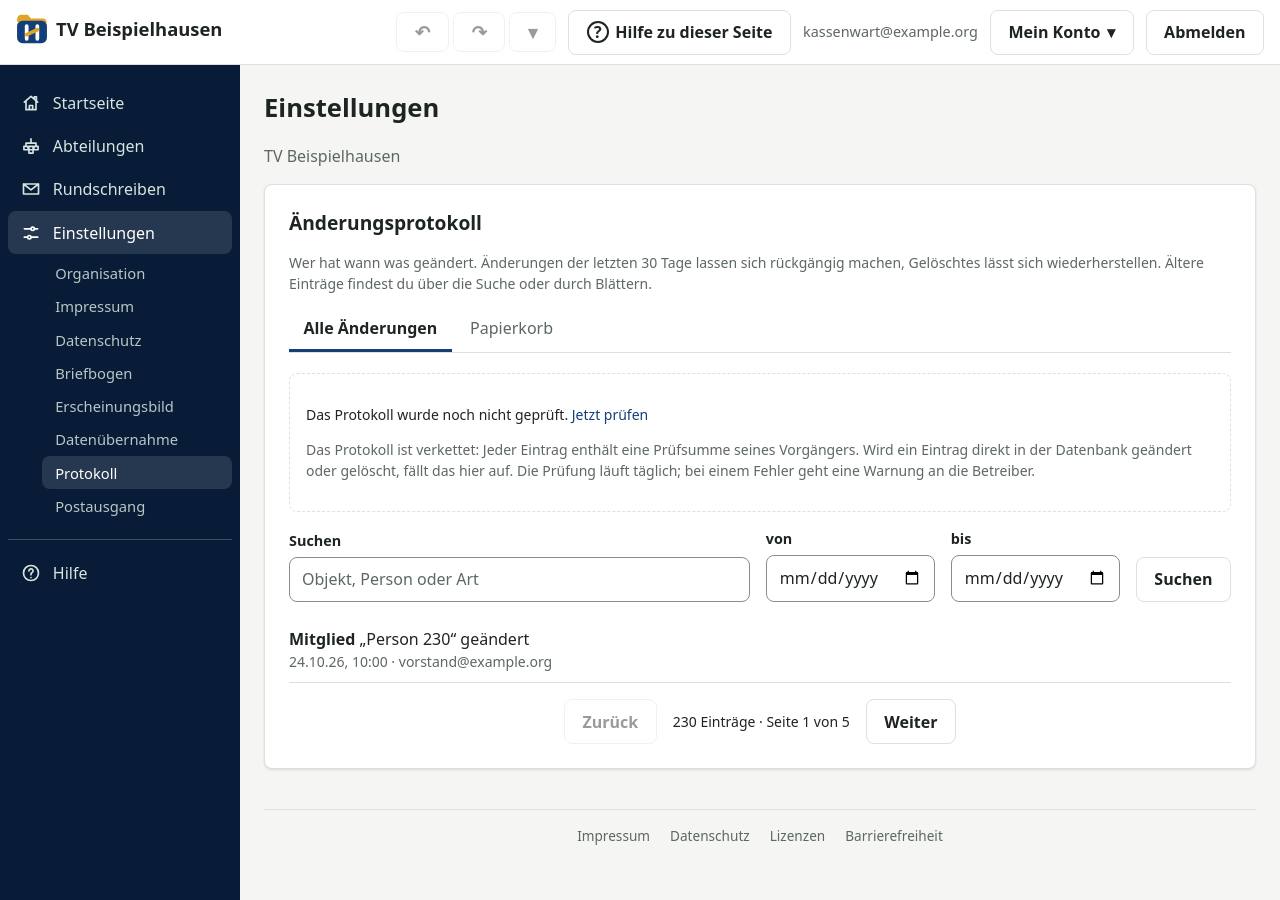
Änderungsprotokoll › blättert und sucht auf dem Server
Expected: the text "Mitglied „Person 230“ geändert" is shown, [289,628,529,650]
Expected: the text "230 Einträge · Seite 1 von 5" is shown, [673,711,850,732]
Click the button "Weiter": (911, 722) [866,699,956,744]
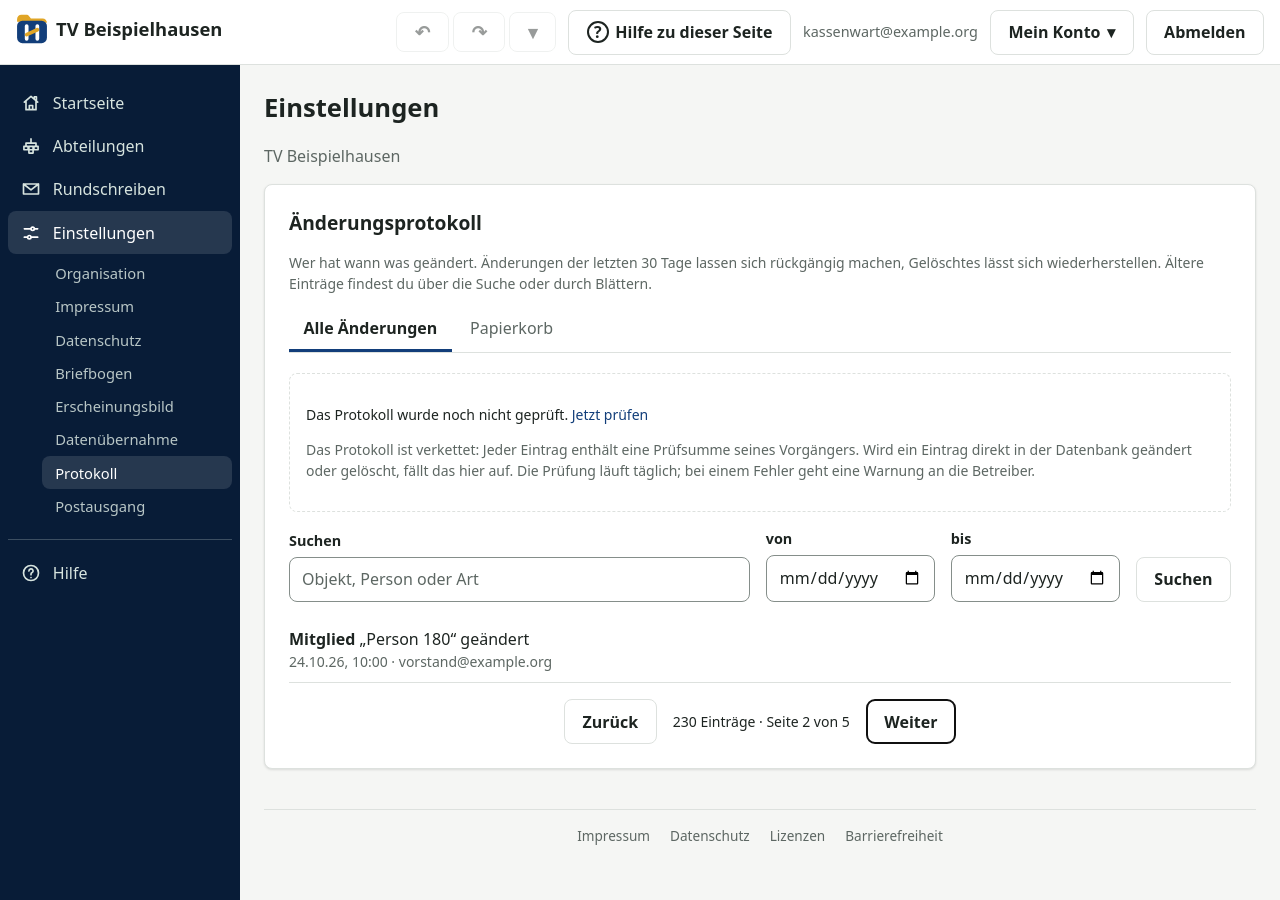
Result: the text "Mitglied „Person 180“ geändert" is shown at [289,628,529,650]
In the search field labelled "Suchen": (519, 579) [289,557,750,602], type "Person 001"
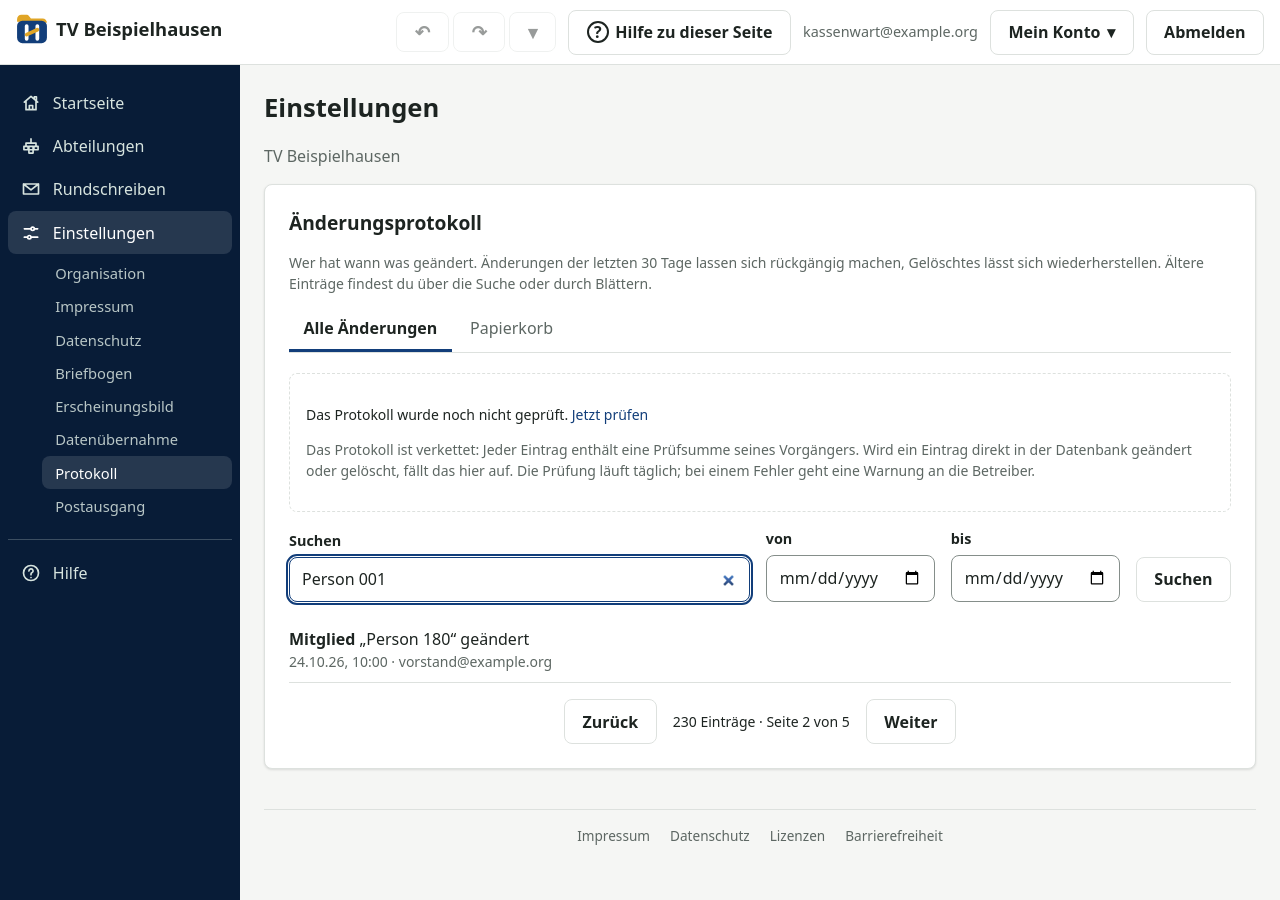
In the date field labelled "von": (850, 578) [766,555,935,602], type "2026-01-01"
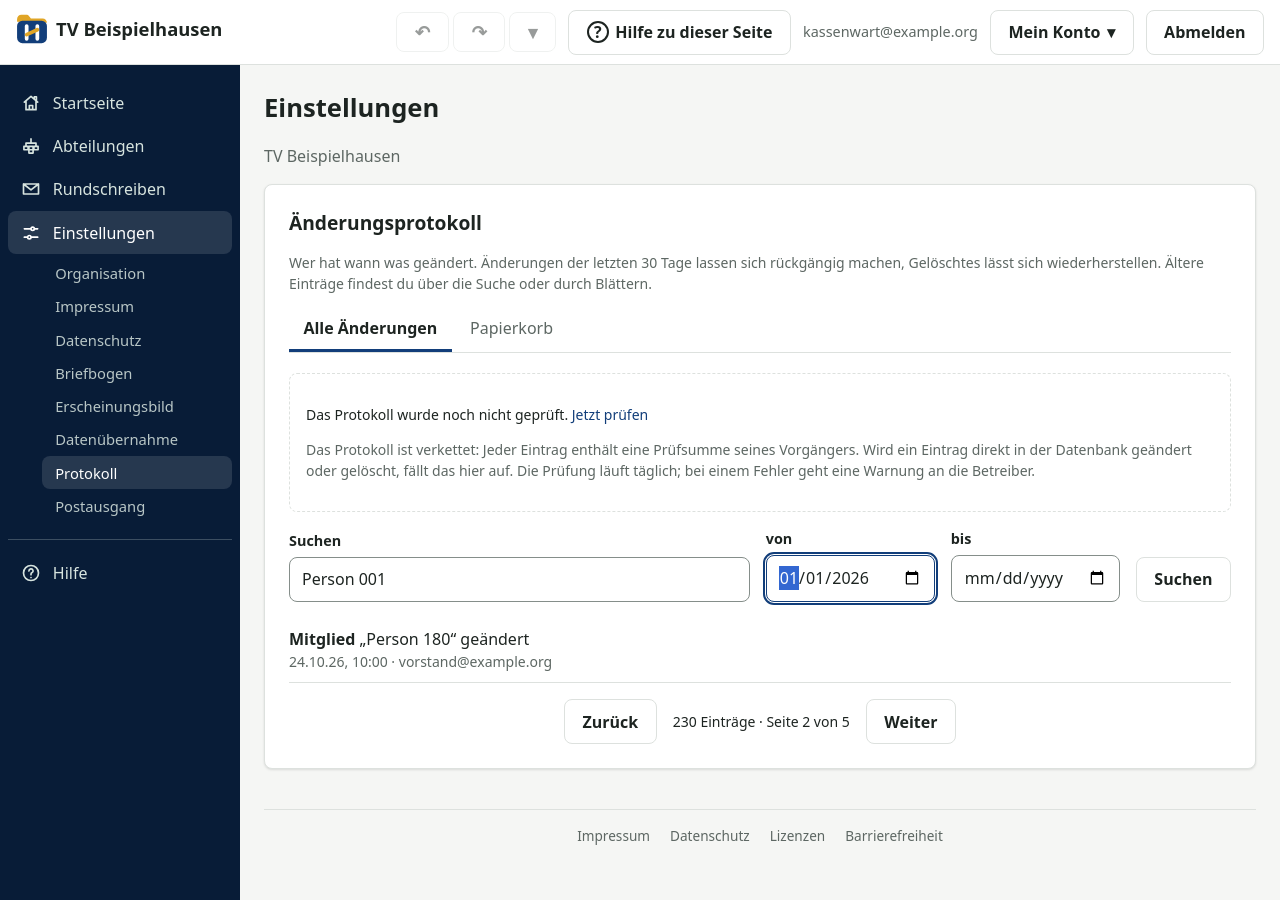
Click the button "Suchen": (1183, 579) [1136,557,1231,602]
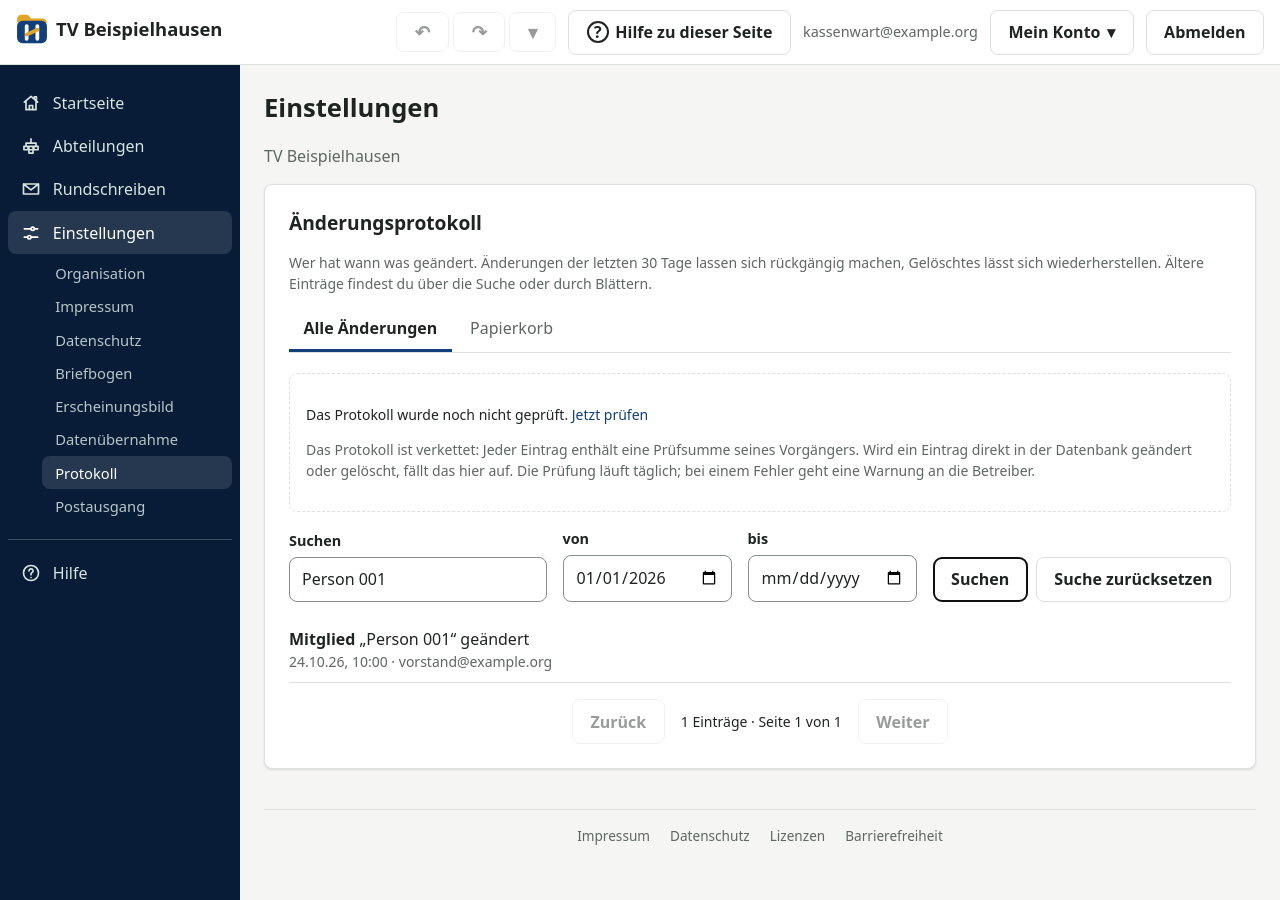
Result: the text "Mitglied „Person 001“ geändert" is shown at [289,628,529,650]
